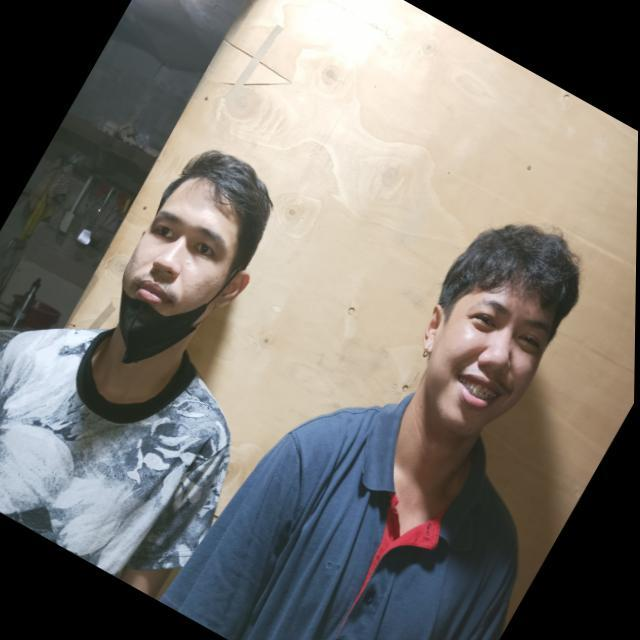Nonhelmet: (105, 142, 275, 364), (418, 220, 582, 438)
